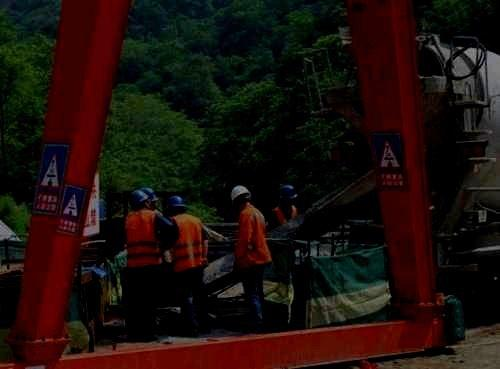helmet: (230, 185, 251, 209), (128, 189, 150, 211), (166, 195, 186, 216), (140, 187, 158, 210), (279, 185, 297, 208)
